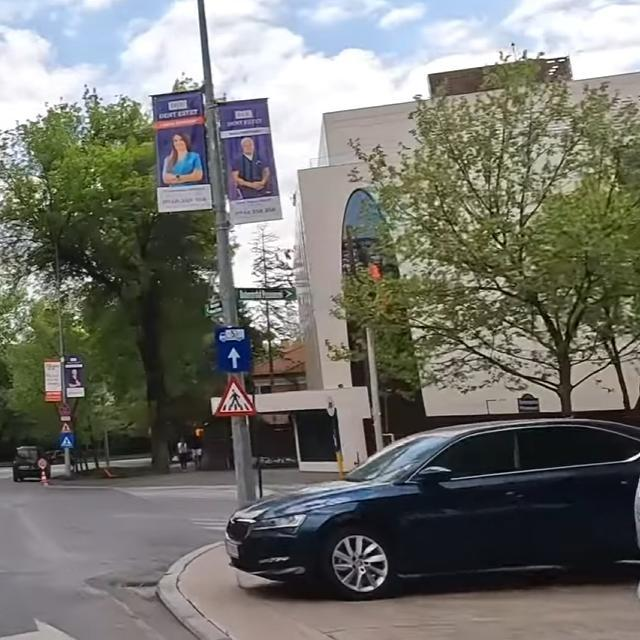warn_crosswalk: (213, 373, 256, 416)
